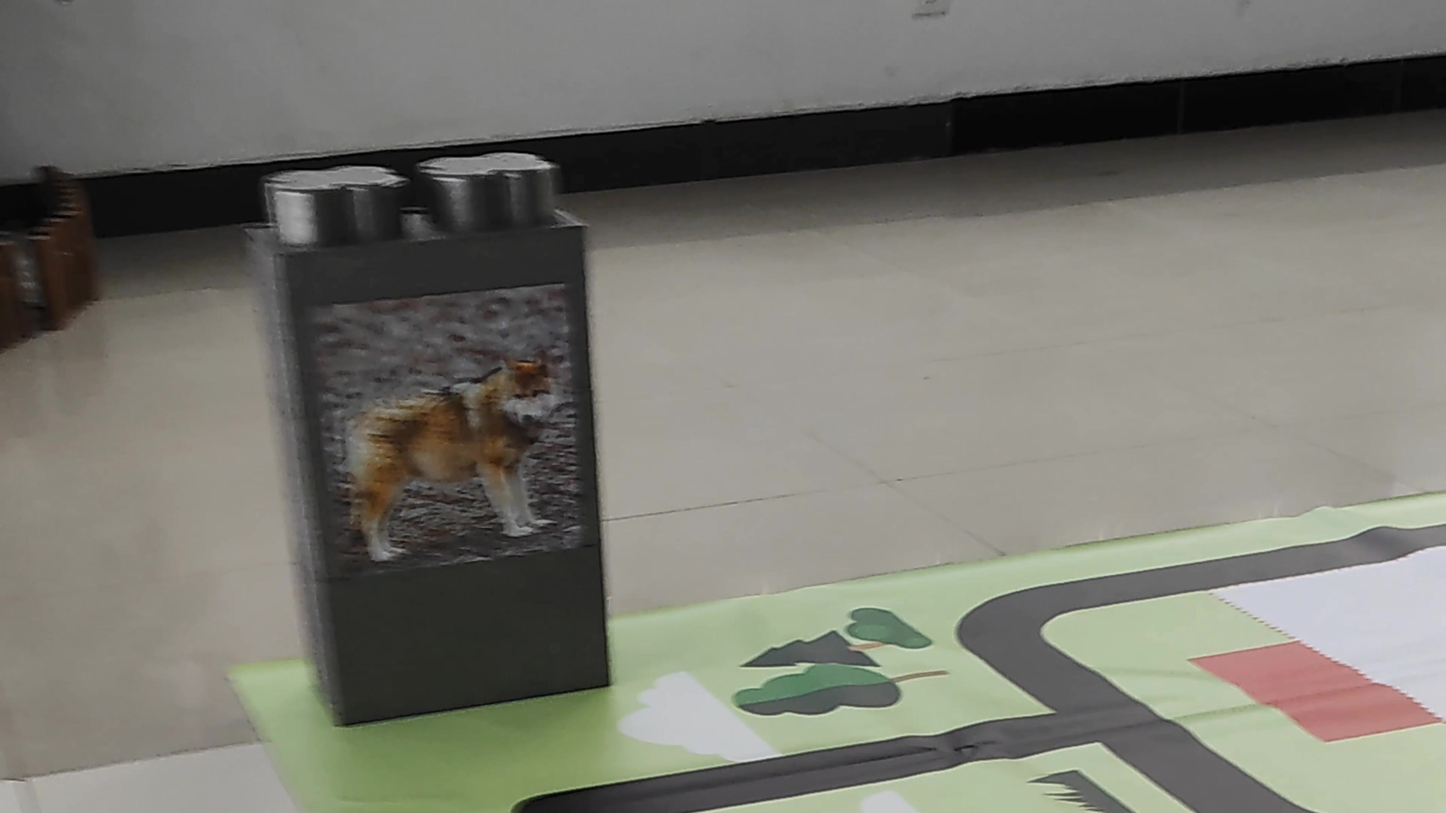wolf: (323, 335, 580, 596)
